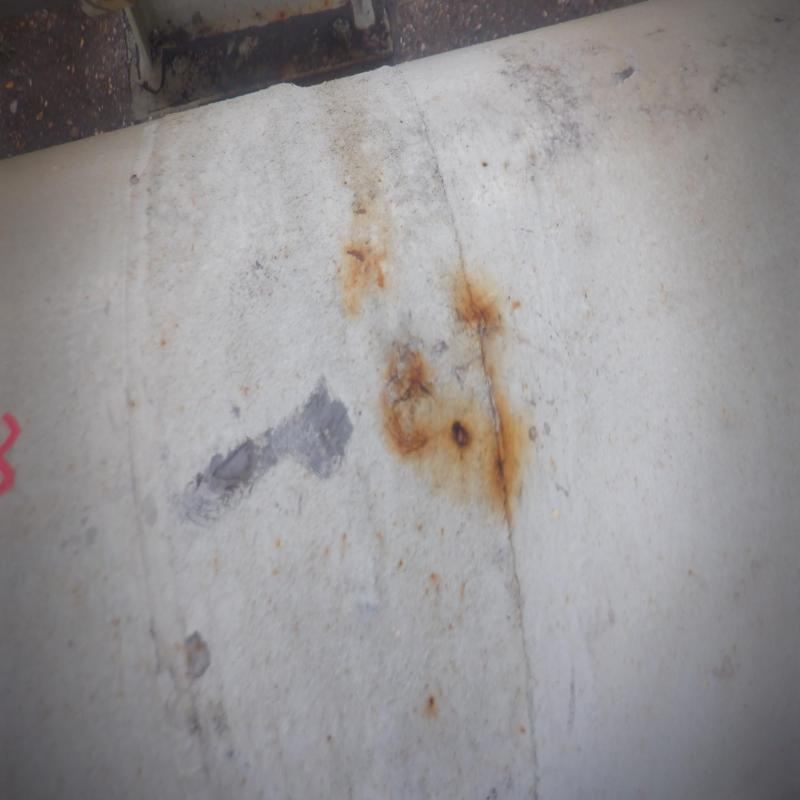corrosion: (378, 359, 438, 422), (457, 417, 474, 448)
